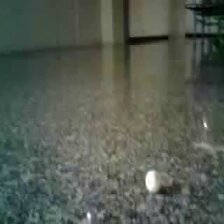w: (145, 169, 162, 191)
